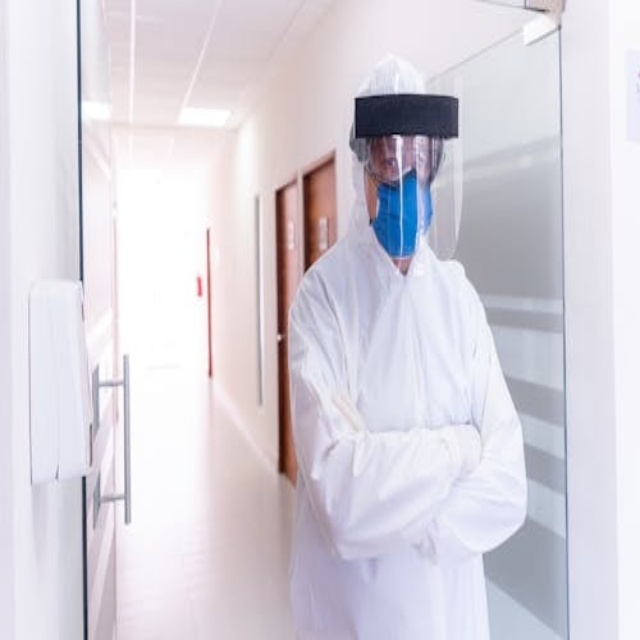Gafas: (361, 136, 442, 186)
Guantes: (431, 409, 488, 482), (321, 381, 378, 434)
Mascara: (369, 171, 432, 257)
